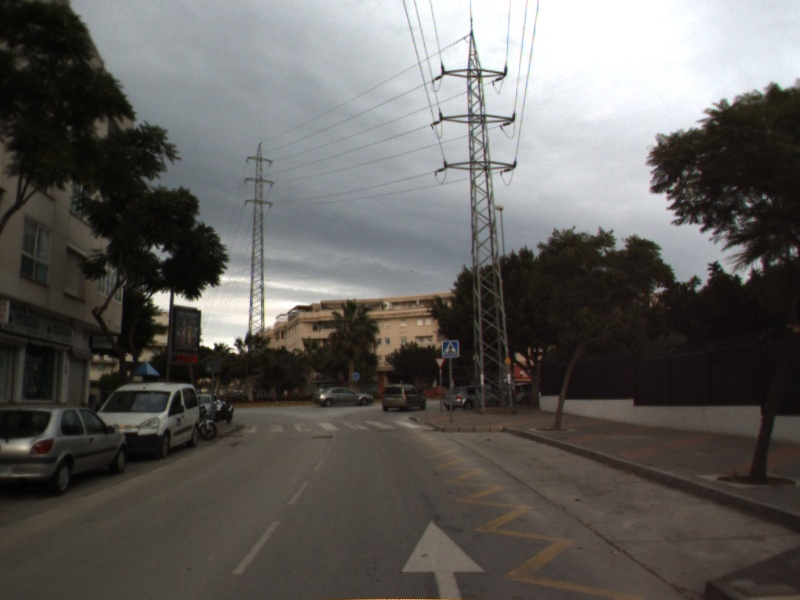STRAIGHT: (397, 514, 490, 600)
